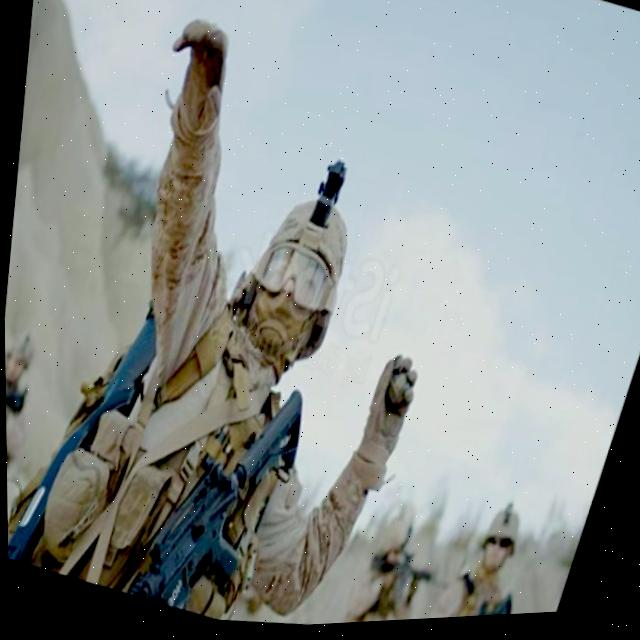grenade: (366, 348, 423, 421)
